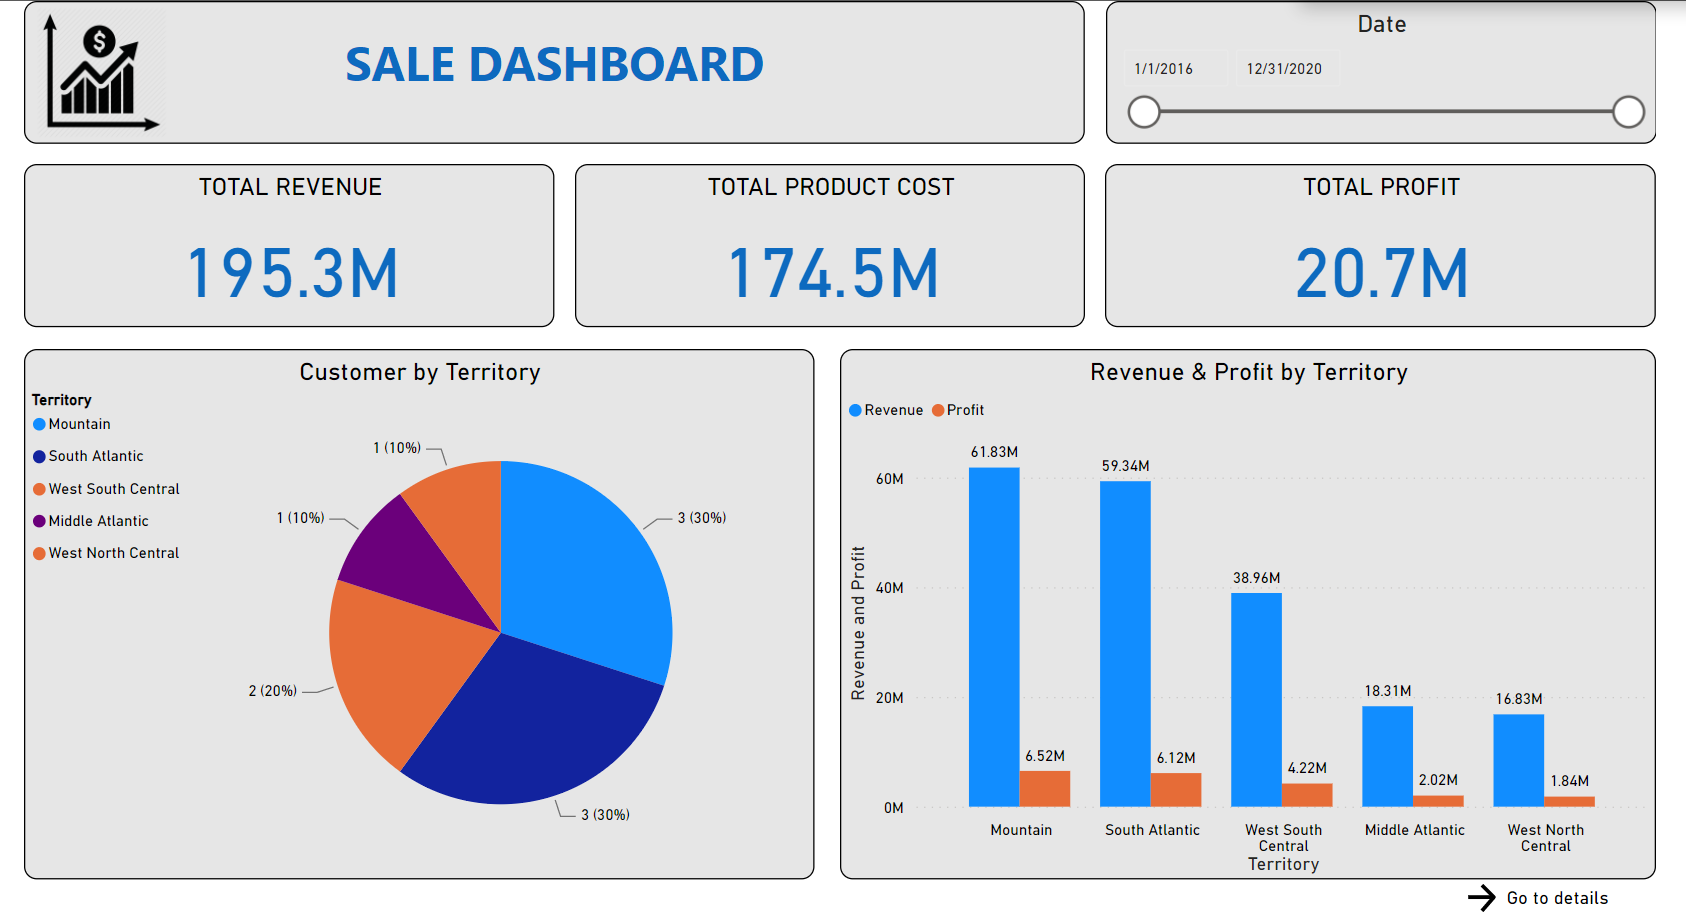

The dashboard page shown, as its layout file describes it:
{"tool":"powerbi","page":{"name":"Dashboard_NghiaTT26","canvas":[1280,720],"ordinal":0},"visuals":[{"type":"card","title":"TOTAL REVENUE","fields":{"Values":["FACTSALES.TOTAL_REVENUE"]},"box":[0,128,416,128],"z":0},{"type":"textbox","box":[0,0,832,112],"z":1000},{"type":"card","title":"TOTAL PROFIT","fields":{"Values":["FACTSALES.TOTAL_PROFIT"]},"box":[848,128,432,128],"z":2000},{"type":"card","title":"TOTAL PRODUCT COST","fields":{"Values":["FACTSALES.TOTAL_PRODUCT_COST"]},"box":[432,128,400,128],"z":3000},{"type":"image","box":[0,0,122.4,111.6],"z":4000},{"type":"pieChart","title":"Customer by Territory","fields":{"Category":["DIMLOCATION.TERRITORY"],"Y":["FACTSALES.TOTAL_CUSTOMER"]},"box":[0,272.6,619.9,416],"z":5000},{"type":"actionButton","box":[1126.5,687,153.2,33],"z":6000},{"type":"slicer","title":"Date","fields":{"Values":["DIMCALENDAR.DATE"]},"box":[848.5,0,431.5,112],"z":7000},{"type":"clusteredColumnChart","title":"Revenue & Profit by Territory","fields":{"Category":["DIMLOCATION.TERRITORY"],"Y":["FACTSALES.TOTAL_REVENUE","FACTSALES.TOTAL_PROFIT"]},"box":[640,272.6,640,416],"z":8000}]}

Visuals, with their boxes in screenshot pixels (x1, y1, x2, y2):
"TOTAL REVENUE" card: <bbox>40, 161, 562, 322</bbox>
textbox: <bbox>40, 0, 1085, 141</bbox>
"TOTAL PROFIT" card: <bbox>1105, 161, 1648, 322</bbox>
"TOTAL PRODUCT COST" card: <bbox>582, 161, 1085, 322</bbox>
image: <bbox>40, 0, 193, 140</bbox>
"Customer by Territory" pieChart: <bbox>40, 343, 819, 865</bbox>
actionButton: <bbox>1455, 863, 1648, 905</bbox>
"Date" slicer: <bbox>1106, 0, 1648, 141</bbox>
"Revenue & Profit by Territory" clusteredColumnChart: <bbox>844, 343, 1648, 865</bbox>
